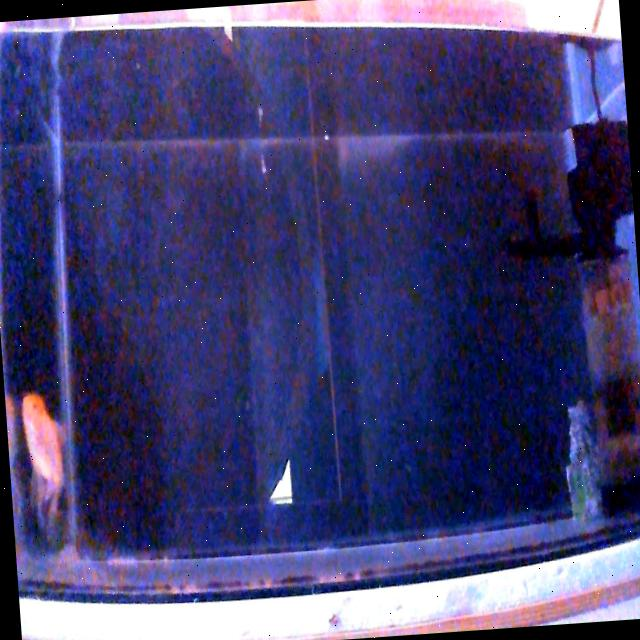fish: (20, 390, 66, 492)
